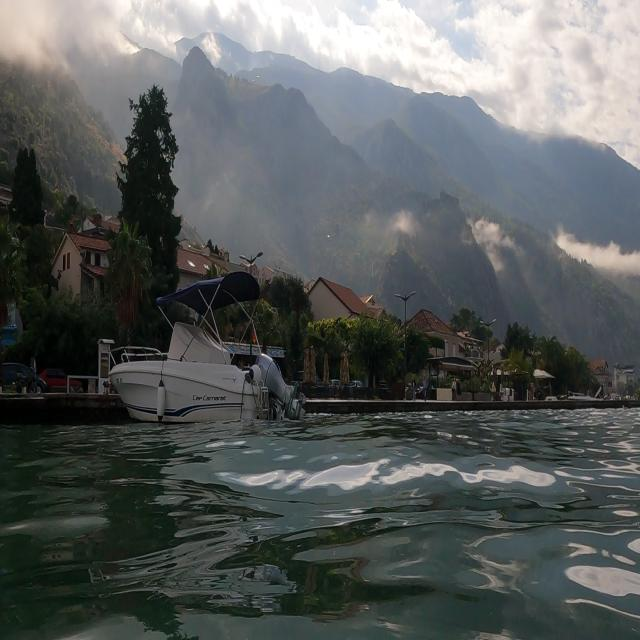boat: (106, 266, 307, 429)
